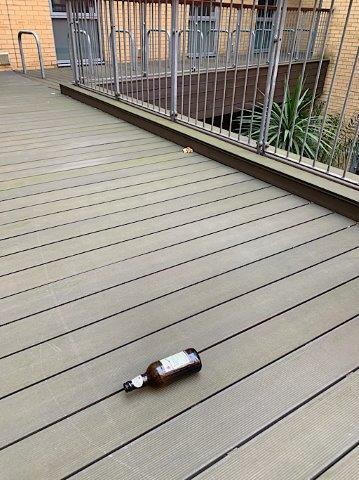botolkaca: (124, 348, 203, 392)
